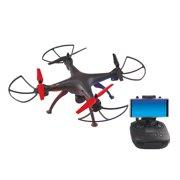drone: (9, 46, 151, 125)
